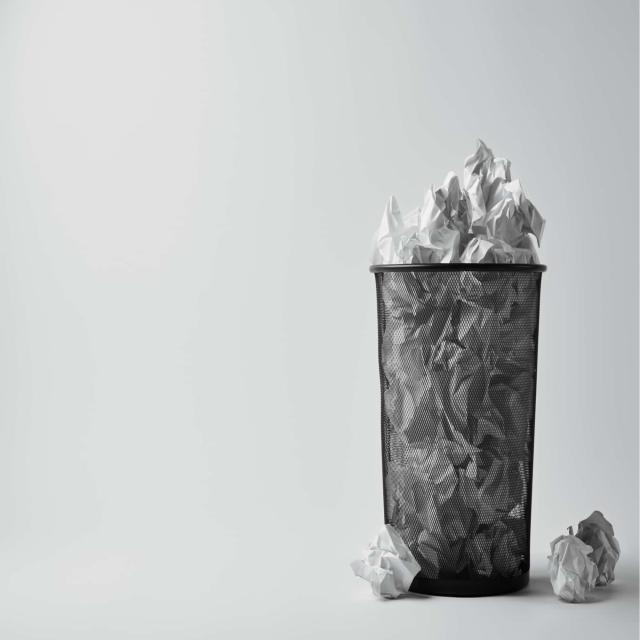Paper -Biodegradable-: (360, 141, 543, 604), (549, 510, 621, 596)
